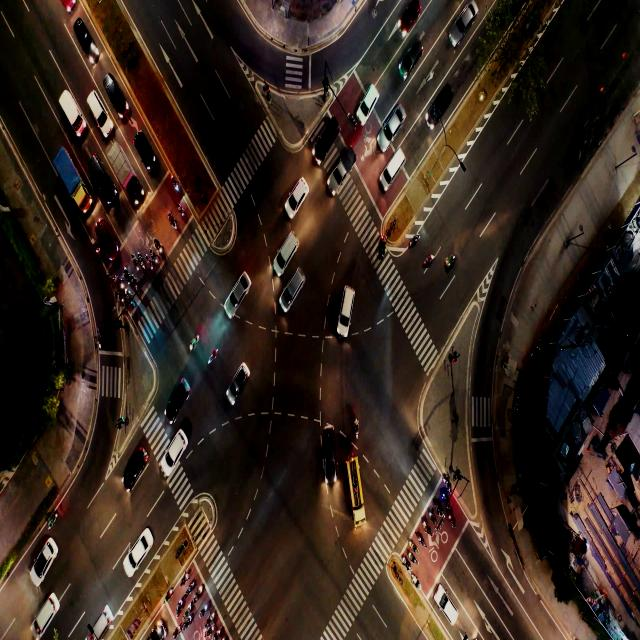bus: (351, 470, 364, 492)
car: (403, 40, 418, 74), (382, 109, 398, 137), (439, 598, 454, 624), (388, 155, 404, 176), (362, 81, 374, 109), (132, 447, 143, 477), (438, 86, 451, 110), (324, 429, 336, 455), (280, 235, 292, 258), (41, 600, 53, 623), (460, 9, 471, 33), (324, 125, 336, 147), (176, 381, 187, 404), (37, 549, 47, 574), (101, 227, 114, 246), (91, 100, 102, 122), (170, 438, 182, 458), (96, 613, 107, 634), (294, 270, 306, 288), (94, 165, 104, 186), (234, 278, 243, 301), (406, 4, 418, 21), (136, 537, 146, 556), (234, 372, 244, 390), (291, 188, 301, 204), (142, 138, 151, 154), (82, 30, 90, 48), (112, 84, 120, 100), (344, 293, 350, 314)
motorcycle: (187, 334, 200, 354), (420, 253, 434, 270), (48, 510, 58, 530), (377, 240, 386, 259), (210, 344, 218, 364), (411, 232, 420, 245), (353, 419, 359, 438), (446, 254, 454, 268), (436, 504, 441, 515), (198, 585, 203, 596), (420, 534, 424, 546), (167, 588, 173, 596), (174, 626, 180, 634), (450, 517, 455, 526), (413, 576, 418, 585), (98, 337, 102, 348), (182, 575, 188, 582), (180, 208, 184, 218), (190, 581, 195, 589), (178, 598, 182, 608), (175, 180, 178, 193), (426, 525, 430, 533), (411, 543, 415, 551), (413, 556, 417, 564), (172, 218, 176, 226), (159, 247, 163, 255), (134, 279, 138, 287), (187, 604, 191, 612), (186, 617, 191, 623), (209, 626, 214, 632), (443, 493, 447, 500), (149, 262, 153, 269), (94, 246, 98, 253), (113, 278, 117, 285), (211, 612, 215, 619), (218, 629, 222, 636), (154, 258, 158, 264), (127, 293, 131, 299), (126, 275, 129, 282), (204, 604, 207, 611), (142, 262, 145, 268), (406, 560, 408, 568), (432, 513, 434, 520), (446, 482, 449, 486), (136, 264, 138, 270), (121, 280, 123, 286), (122, 297, 124, 303)
truck: (65, 167, 77, 195), (337, 158, 347, 177), (66, 106, 76, 124), (120, 157, 126, 176)
